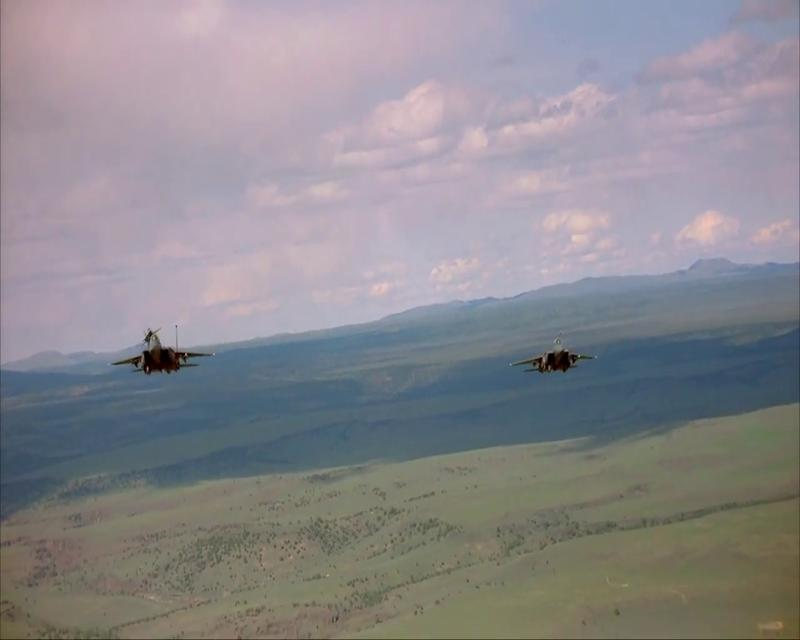UAV: (108, 328, 215, 373), (509, 338, 598, 375)
